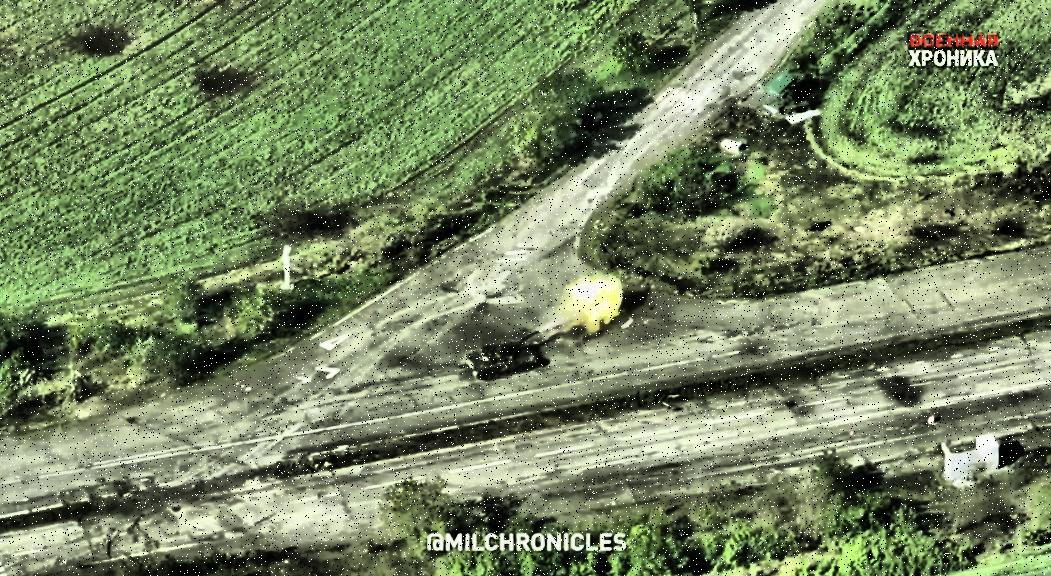military-vehicle: (465, 334, 542, 378)
